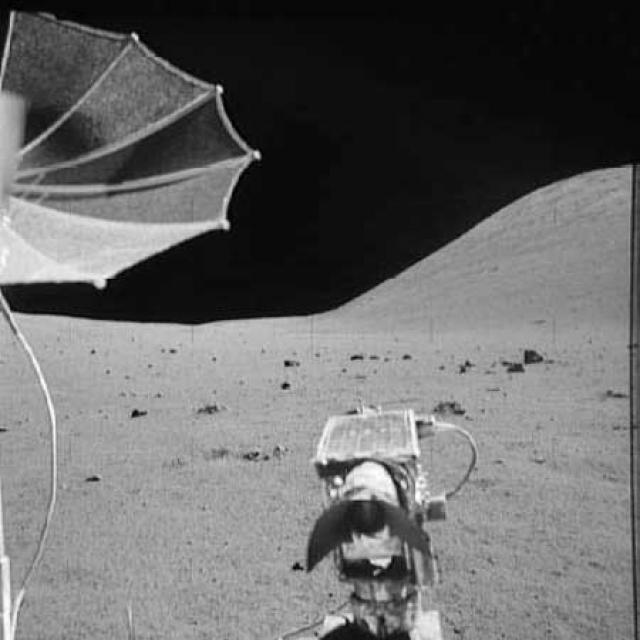artifact: (2, 4, 261, 308), (276, 402, 486, 640), (1, 306, 66, 640)
rock: (192, 400, 233, 416), (520, 340, 542, 362), (277, 357, 300, 374), (126, 402, 147, 420)
